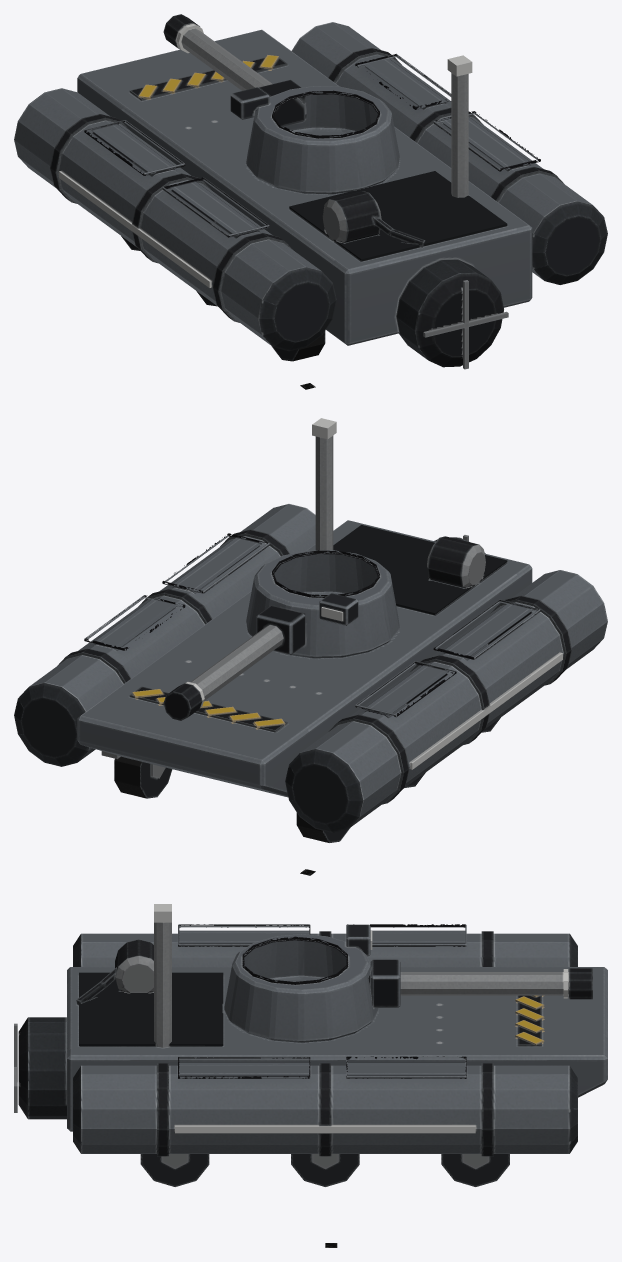
The model's file is chs_mire.fbx.
3 renders of one model, top to bottom at view 1: azimuth 30°, elevation 25°; view 2: azimuth 150°, elevation 25°; view 3: azimuth 270°, elevation 25°, orthographic.
Visible parts, largest first — view 1: base_bar, turret_bar, base_glow_running_bar, wheelL3_bar; view 2: base_bar, turret_bar, base_glow_running_bar, wheelR1_bar, wheelL1_bar; view 3: base_bar, turret_bar, base_glow_running_bar, wheelR3_bar, wheelR2_bar, wheelR1_bar.
Boxes of the visible parts, x1,y1,x2,y2 form: base_bar: (14,22,607,369); turret_bar: (163,14,399,194); base_glow_running_bar: (59,55,472,287); wheelL3_bar: (271,331,325,361); base_bar: (14,435,607,832); turret_bar: (163,550,399,720); base_glow_running_bar: (312,418,562,769); wheelR1_bar: (114,756,172,798); wheelL1_bar: (296,812,350,842); base_bar: (14,922,607,1156); turret_bar: (224,924,592,1042); base_glow_running_bar: (154,904,475,1133); wheelR3_bar: (140,1154,209,1186); wheelR2_bar: (291,1154,359,1186); wheelR1_bar: (441,1154,509,1186).
Size of the model in its own units: 678 by 680 by 988.
Materials: 2 (2 with a texture image).
